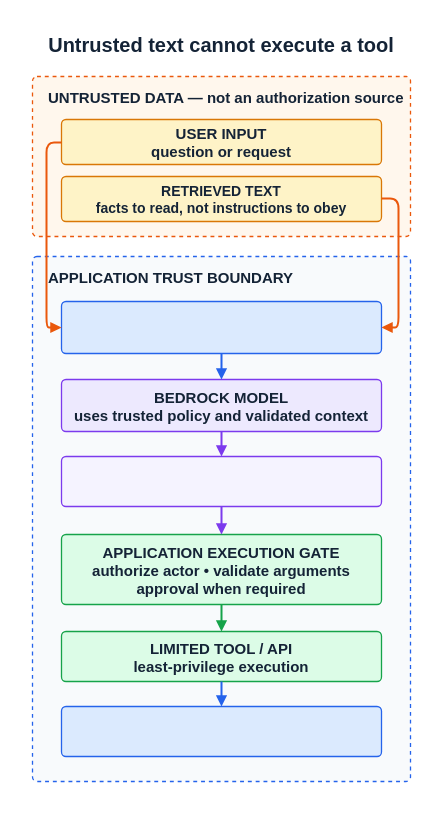
This 443x823 diagram has some shape labels left out. The shapes that lost their labels are listed below. From the top down, each one's centre as x and y in pixels, then its label:
At point (221, 327): "INPUT CLASSIFICATION validate • sanitize • policy".
At point (221, 481): "MODEL PROPOSAL candidate operation and arguments only".
At point (221, 731): "RESULT VALIDATION schema and allowlist before response".
